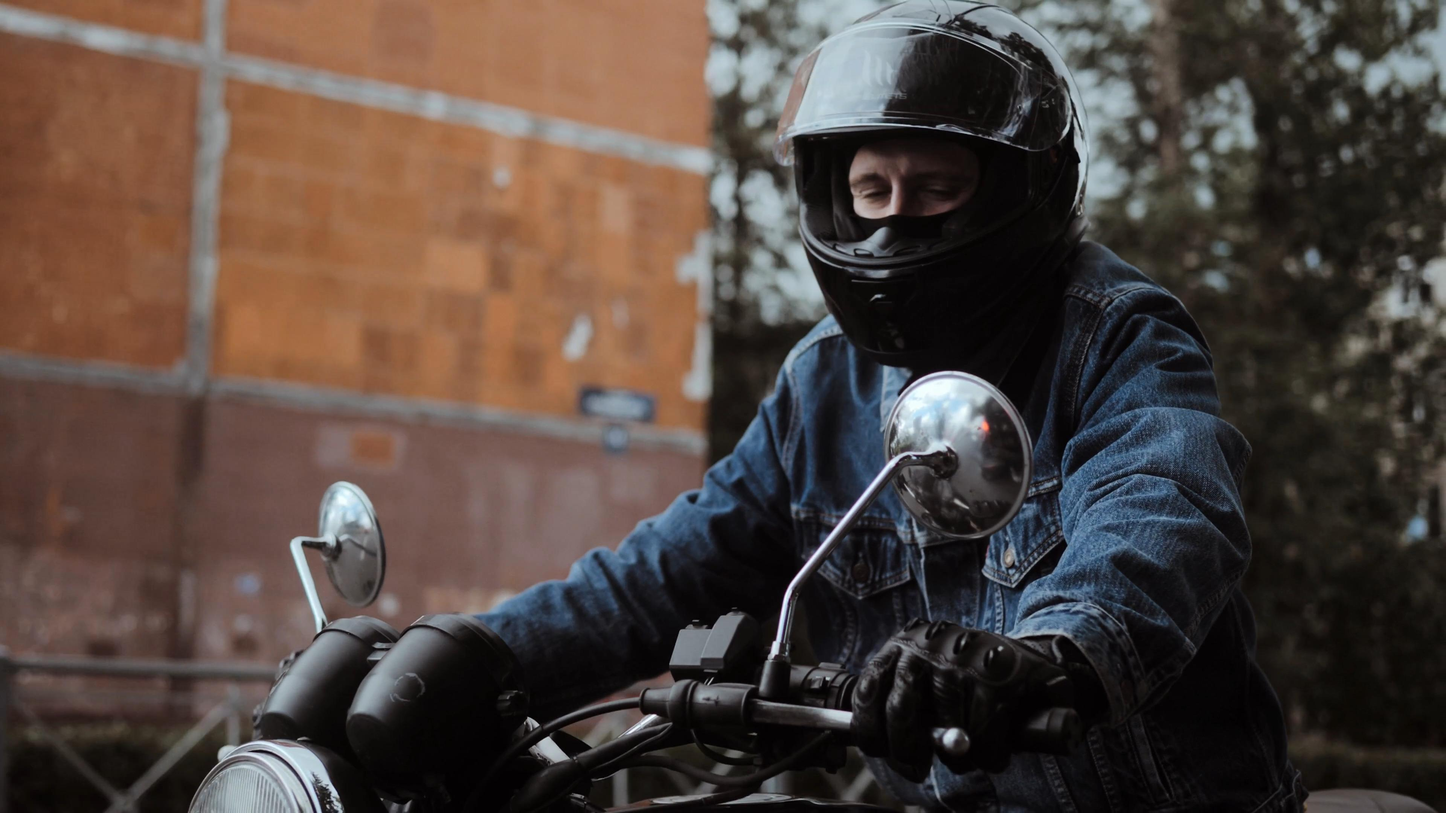driver: (1, 2, 1309, 813)
helmet: (773, 0, 1093, 370)
